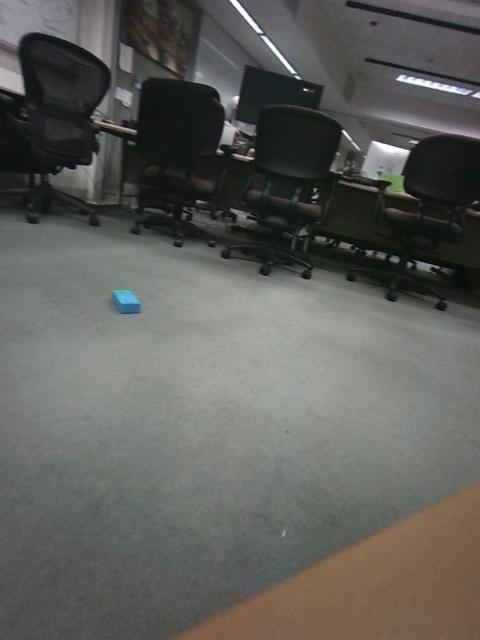block: (62, 293, 121, 327)
